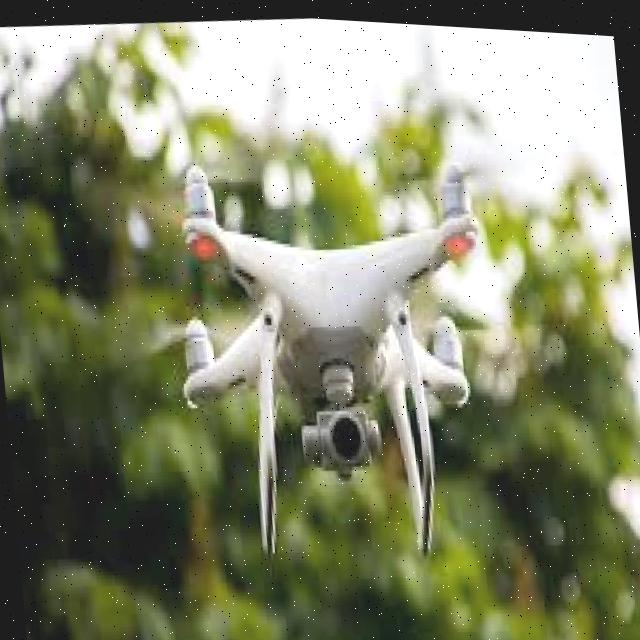drone: (118, 91, 570, 624)
